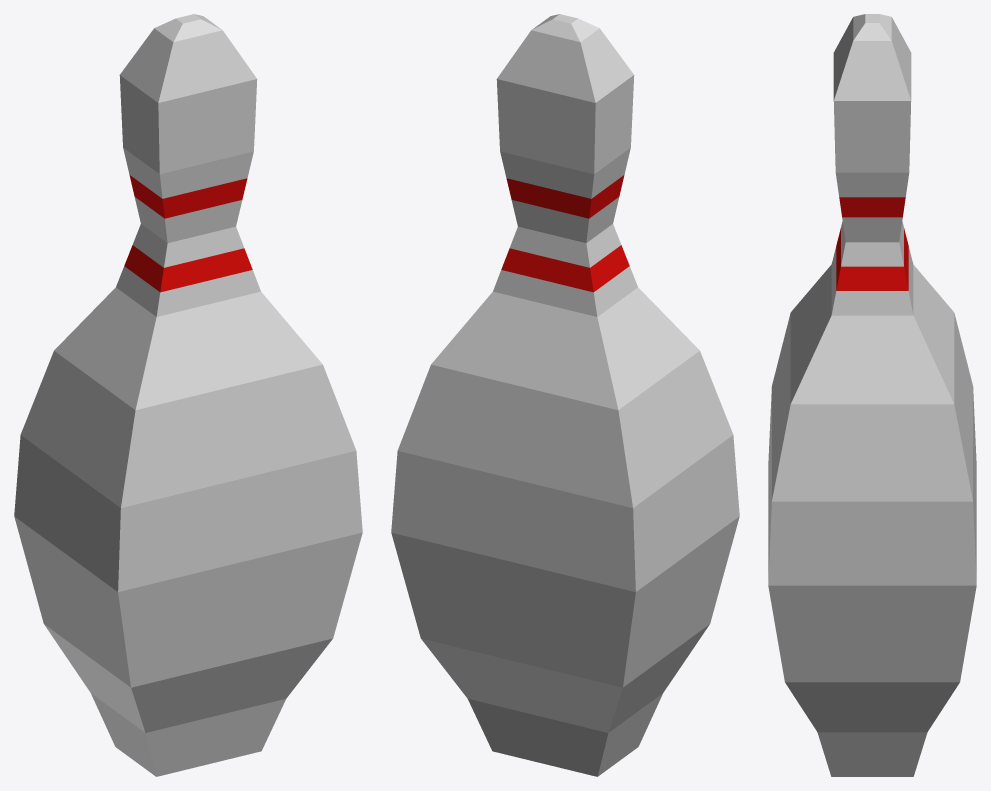
Rendered from BowlingBirillo.fbx.
The picture shows the model from 3 angles, left to right: view 1: azimuth 30°, elevation 25°; view 2: azimuth 150°, elevation 25°; view 3: azimuth 270°, elevation 25°; orthographic projection.
Visible parts, largest first — view 1: birillo; view 2: birillo; view 3: birillo.
Boxes of the visible parts, x1,y1,x2,y2 form: birillo: (14,14,362,776); birillo: (391,14,739,776); birillo: (768,14,976,776).
Size of the model in its own units: 0.6977 by 1.99 by 0.513.
